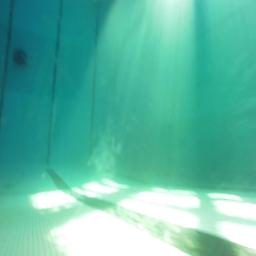Full: (12, 48, 27, 65)
